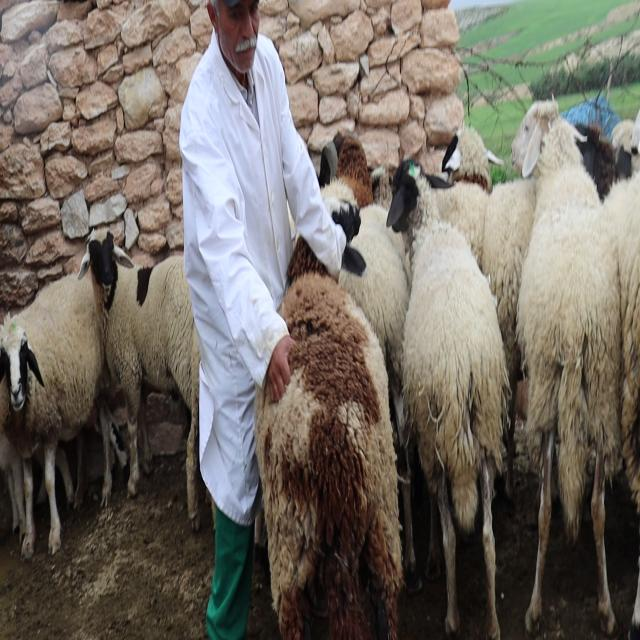Score_5: (255, 235, 404, 639)
